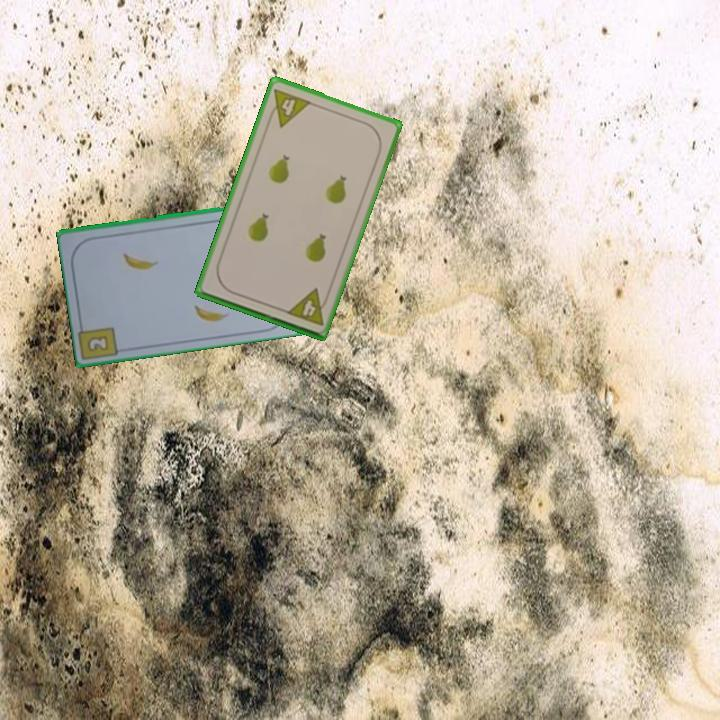2b: (84, 332, 112, 355)
4p: (263, 85, 314, 130), (283, 285, 332, 328)
